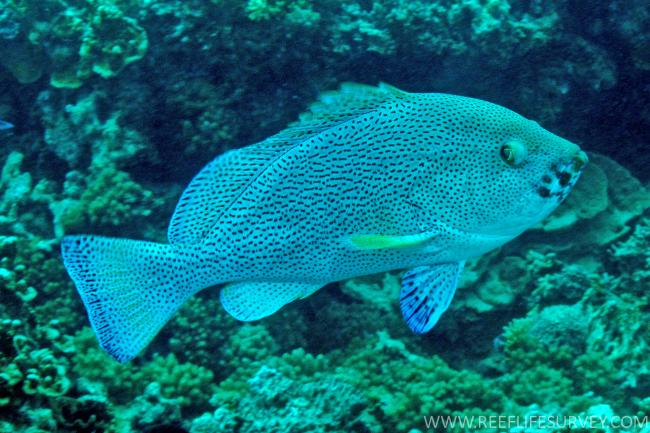fish: (59, 81, 590, 367)
